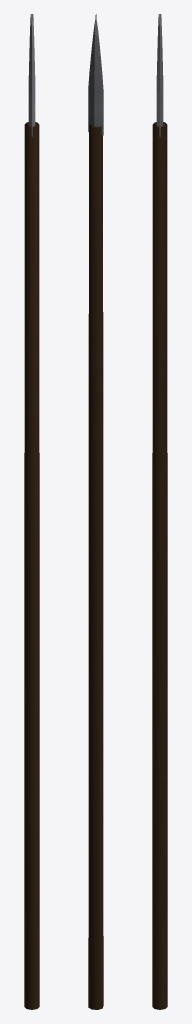
File: yari.glb
The picture shows the model from 3 angles, left to right: view 1: azimuth 90°, elevation 25°; view 2: azimuth 150°, elevation 25°; view 3: azimuth 270°, elevation 25°; orthographic projection.
Parts seen in each view (by area): view 1: yari; view 2: yari; view 3: yari.
Boxes of the visible parts, x1,y1,x2,y2 form: yari: (24,14,39,1009); yari: (88,14,103,1009); yari: (152,14,167,1009).
Size of the model in its own units: 0.036 by 2.24 by 0.032.
1 material, 1 textured.
